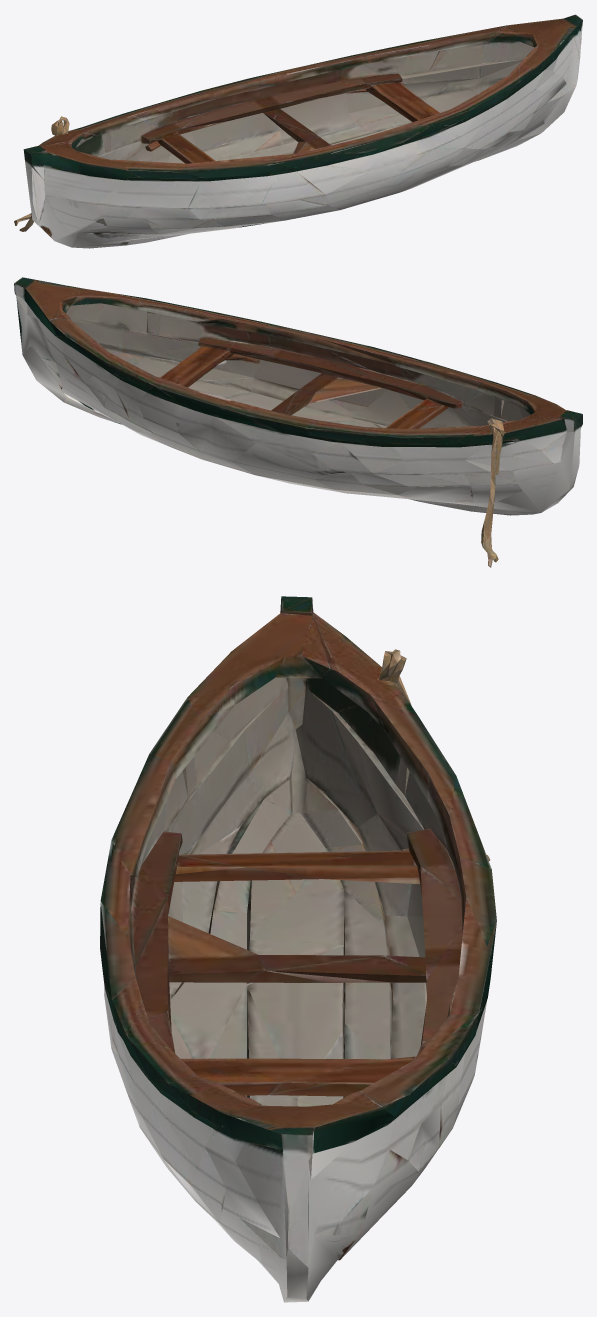
The model's file is fjordbaat.glb.
The picture shows the model from 3 angles, top to bottom: view 1: azimuth 30°, elevation 25°; view 2: azimuth 150°, elevation 25°; view 3: azimuth 270°, elevation 25°; orthographic projection. The views are drawn at different scales.
Parts seen in each view (by area): view 1: mesh_node; view 2: mesh_node; view 3: mesh_node.
Boxes of the visible parts, left/top/right/bottom form: mesh_node: left=14, top=14, right=582, bottom=248; mesh_node: left=14, top=277, right=582, bottom=567; mesh_node: left=100, top=596, right=496, bottom=1302.
Bounding box in the file's own units: 1.9 × 0.415 × 0.5916.
1 material, 1 textured.
